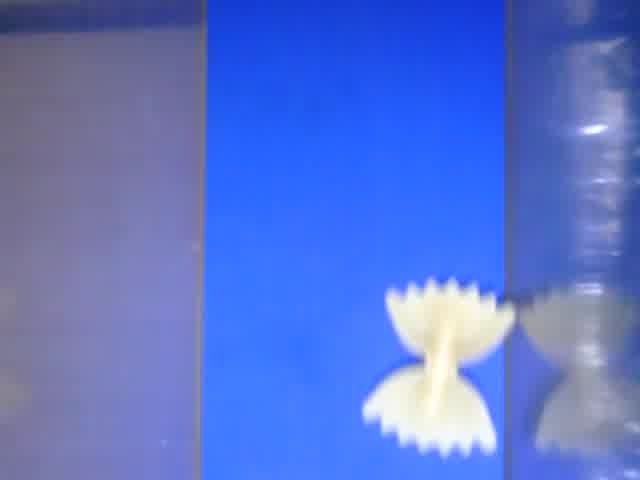farfalle: (362, 278, 515, 459)
